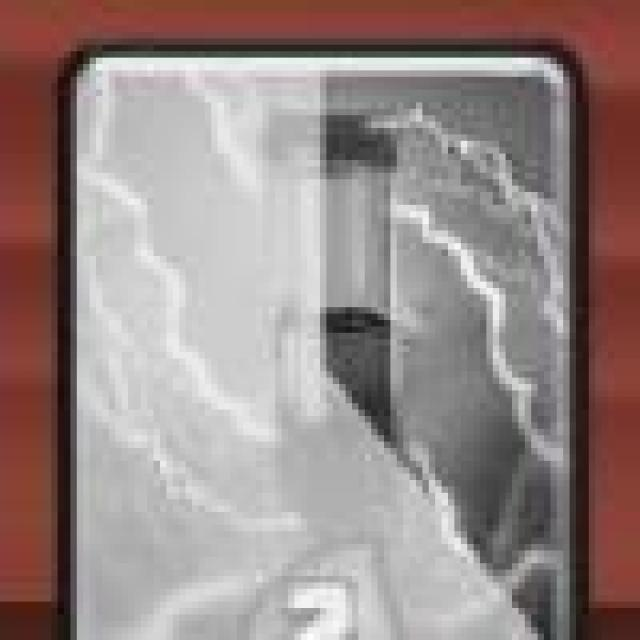Zap: (66, 48, 583, 640)
